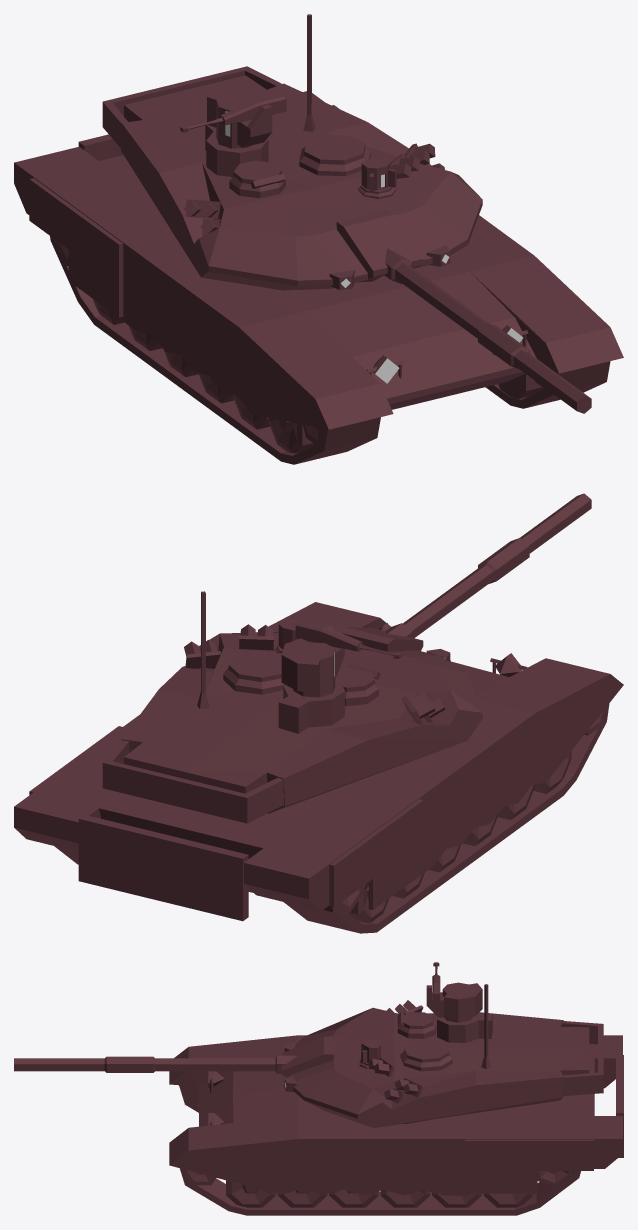
File: SM_Tank_B_Military.fbx
3 renders of one model, top to bottom at view 1: azimuth 30°, elevation 25°; view 2: azimuth 150°, elevation 25°; view 3: azimuth 270°, elevation 25°, orthographic. The views are drawn at different scales.
Visible parts, largest first — view 1: SM_Tank_B_Military_Base, SM_Tank_B_Military_Head, SM_Tank_B_Military_Wheel2; view 2: SM_Tank_B_Military_Base, SM_Tank_B_Military_Head, SM_Tank_B_Military_Wheel7; view 3: SM_Tank_B_Military_Base, SM_Tank_B_Military_Head, SM_Tank_B_Military_Wheel2, SM_Tank_B_Military_Wheel5, SM_Tank_B_Military_Wheel4, SM_Tank_B_Military_Wheel3, SM_Tank_B_Military_Wheel7, SM_Tank_B_Military_Wheel1, SM_Tank_B_Military_Wheel6, SM_Tank_B_Military_Wheel8.
Part boxes in pixels (left/top/right/bottom): SM_Tank_B_Military_Base: left=14, top=91, right=623, bottom=464; SM_Tank_B_Military_Head: left=102, top=14, right=591, bottom=413; SM_Tank_B_Military_Wheel2: left=267, top=373, right=544, bottom=453; SM_Tank_B_Military_Base: left=14, top=602, right=623, bottom=933; SM_Tank_B_Military_Head: left=102, top=493, right=591, bottom=823; SM_Tank_B_Military_Wheel7: left=349, top=882, right=389, bottom=922; SM_Tank_B_Military_Base: left=169, top=1035, right=623, bottom=1215; SM_Tank_B_Military_Head: left=14, top=962, right=603, bottom=1127; SM_Tank_B_Military_Wheel2: left=226, top=1180, right=275, bottom=1207; SM_Tank_B_Military_Wheel5: left=380, top=1190, right=430, bottom=1207; SM_Tank_B_Military_Wheel4: left=329, top=1189, right=378, bottom=1207; SM_Tank_B_Military_Wheel3: left=277, top=1189, right=327, bottom=1207; SM_Tank_B_Military_Wheel7: left=483, top=1193, right=533, bottom=1207; SM_Tank_B_Military_Wheel1: left=182, top=1085, right=215, bottom=1185; SM_Tank_B_Military_Wheel6: left=432, top=1192, right=481, bottom=1207; SM_Tank_B_Military_Wheel8: left=537, top=1171, right=572, bottom=1187.
Size of the model in its own units: 3.87 by 3.37 by 9.31.
